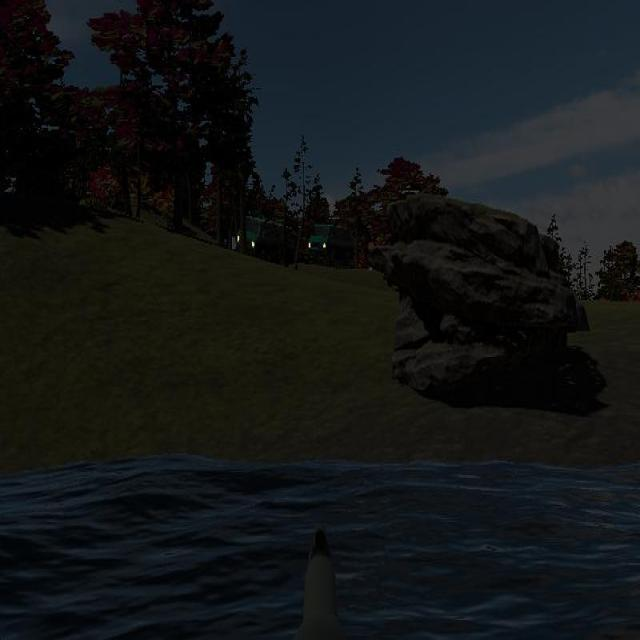car: (237, 214, 295, 265), (307, 221, 355, 269)
